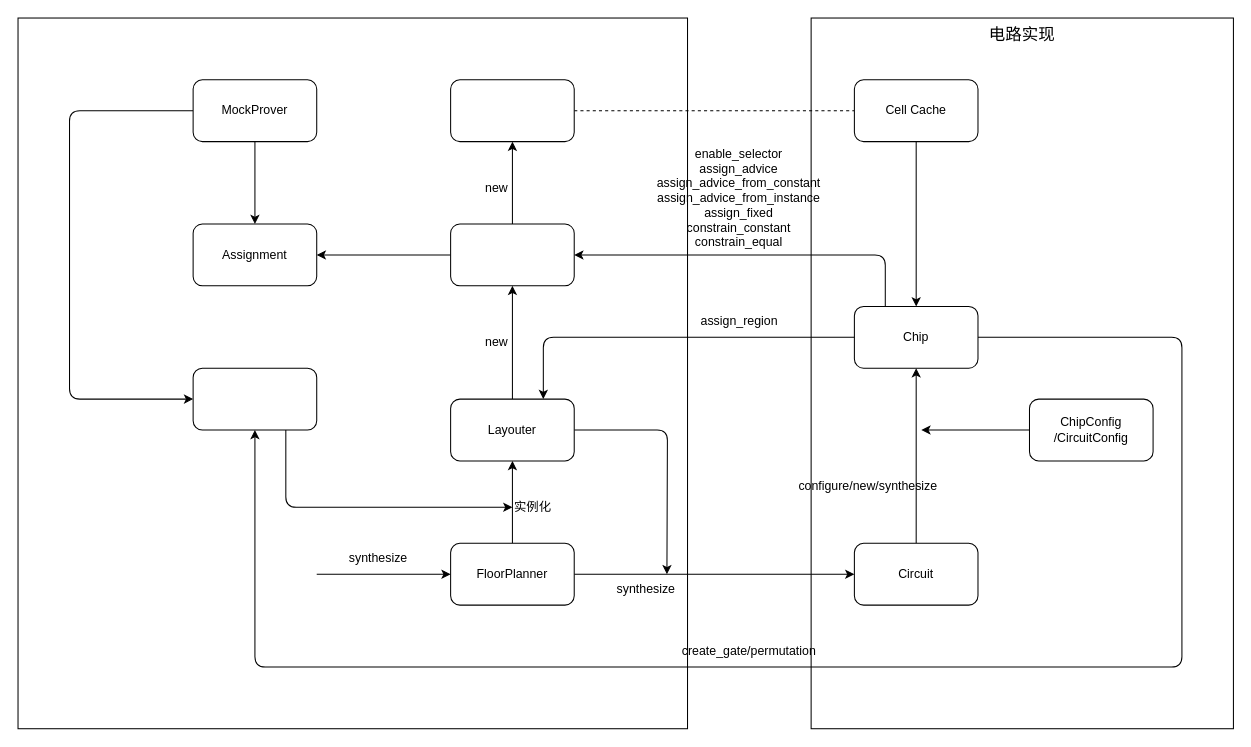
This 1251x747 diagram has some shape labels left out. The box of each missing label's shape, as (x1, y1, x2, y2) in pixels:
Cell: (450, 79, 574, 142)
ConstraintSystem: (192, 367, 317, 430)
Region: (450, 223, 574, 286)
框架: (17, 17, 688, 729)
